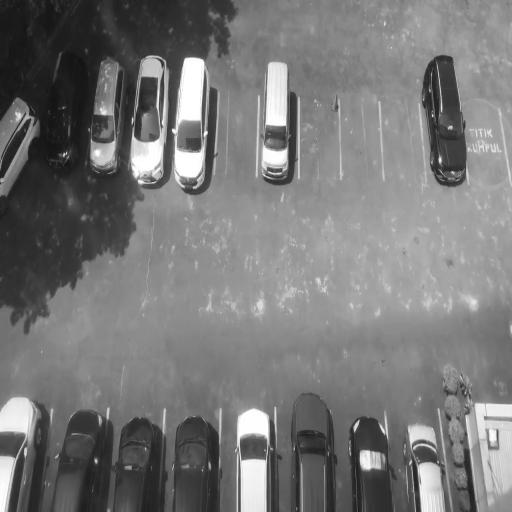Car: (50, 399, 109, 512), (1, 391, 56, 512), (2, 84, 48, 223), (111, 401, 169, 511), (174, 47, 214, 198), (171, 398, 222, 512), (291, 388, 337, 512), (424, 51, 466, 182), (130, 52, 169, 190), (88, 48, 124, 184), (349, 411, 397, 512), (46, 47, 83, 178), (235, 397, 276, 512), (258, 58, 295, 184), (403, 419, 450, 511)
Space Available: (341, 86, 384, 191), (468, 74, 506, 189), (217, 78, 258, 183), (384, 91, 425, 187), (300, 87, 340, 182)
